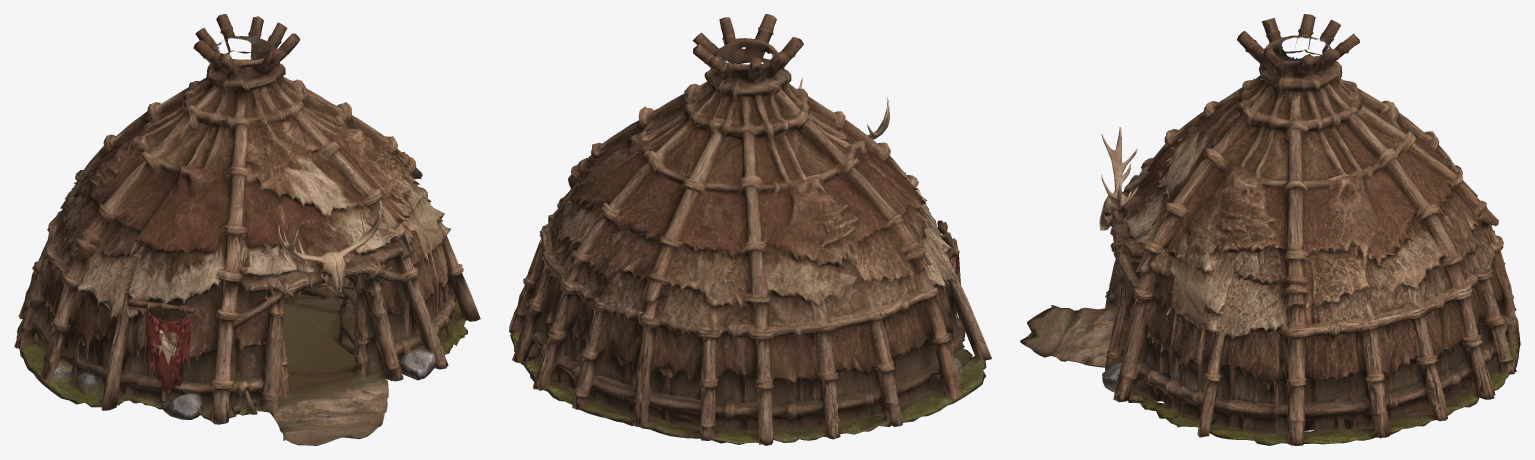
File: SK_HideHut_Tripo.glb
3 views of the same model, side by side, from view 1: azimuth 30°, elevation 25°; view 2: azimuth 150°, elevation 25°; view 3: azimuth 270°, elevation 25° (orthographic). The views are drawn at different scales.
Parts seen in each view (by area): view 1: SK_HideHut_Tripo; view 2: SK_HideHut_Tripo; view 3: SK_HideHut_Tripo.
Part boxes in pixels (box(x1,y1,x2,y2)): SK_HideHut_Tripo: box(14, 14, 480, 445); SK_HideHut_Tripo: box(509, 14, 991, 445); SK_HideHut_Tripo: box(1020, 14, 1520, 445).
Bounding box in the file's own units: 0.9905 × 0.7082 × 0.9998.
Materials: 1 (1 with a texture image).
